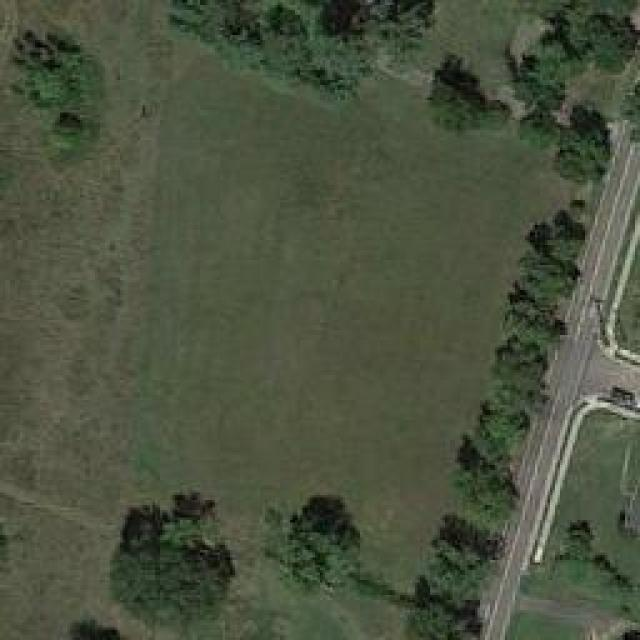Agriculture: (0, 0, 602, 637)
